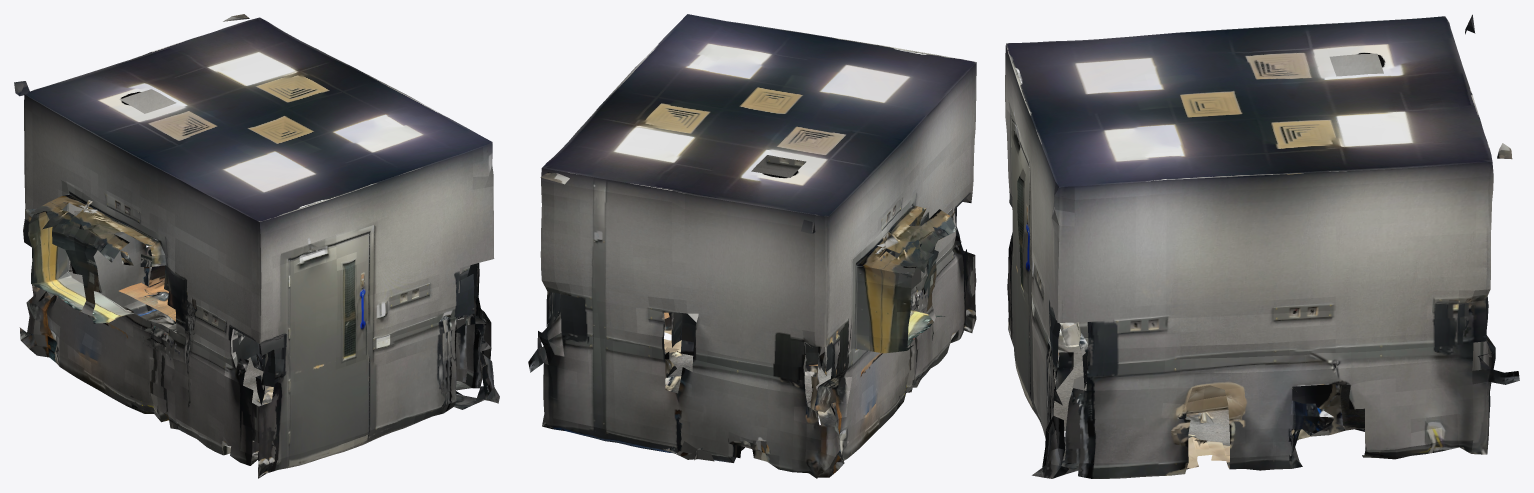
File: 1_opposite_m108-IM.fbx
3 renders of one model, left to right at view 1: azimuth 30°, elevation 25°; view 2: azimuth 150°, elevation 25°; view 3: azimuth 270°, elevation 25°, orthographic. The views are drawn at different scales.
Parts seen in each view (by area): view 1: 1_opposite_m108-IM; view 2: 1_opposite_m108-IM; view 3: 1_opposite_m108-IM.
Boxes of the visible parts, x1,y1,x2,y2 form: 1_opposite_m108-IM: (14, 14, 499, 478); 1_opposite_m108-IM: (528, 14, 976, 478); 1_opposite_m108-IM: (1005, 14, 1519, 478).
Bounding box in the file's own units: 346 × 252 × 385.
1 material, 1 textured.
